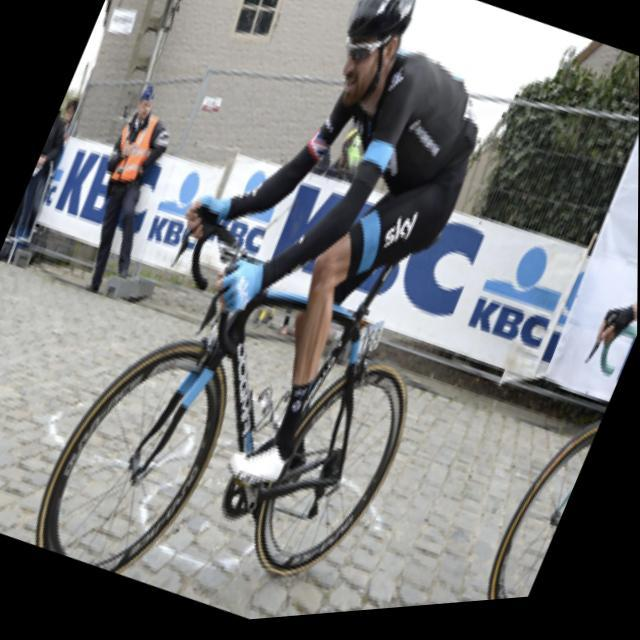Helmet: (335, 0, 420, 112)
